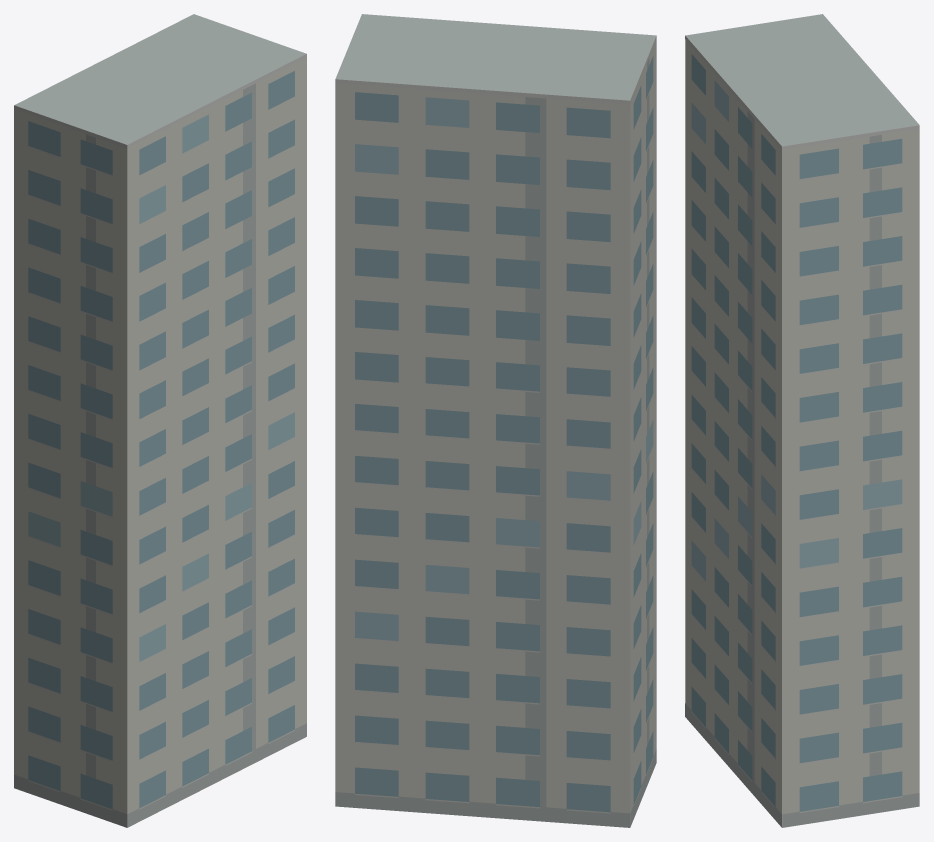
Rendered from residential-2015be48-3749-4288-a059-64c2291d5643.glb.
3 views of the same model, side by side, from view 1: azimuth 30°, elevation 25°; view 2: azimuth 150°, elevation 25°; view 3: azimuth 270°, elevation 25° (orthographic). The views are drawn at different scales.
Parts seen in each view (by area): view 1: residential-2015be48-3749-4288-a059-64c2291d5643.tmp; view 2: residential-2015be48-3749-4288-a059-64c2291d5643.tmp; view 3: residential-2015be48-3749-4288-a059-64c2291d5643.tmp.
Boxes of the visible parts, x1,y1,x2,y2 form: residential-2015be48-3749-4288-a059-64c2291d5643.tmp: (14, 14, 306, 827); residential-2015be48-3749-4288-a059-64c2291d5643.tmp: (335, 14, 656, 827); residential-2015be48-3749-4288-a059-64c2291d5643.tmp: (685, 14, 919, 827).
Bounding box in the file's own units: 18.79 × 45 × 14.05.
